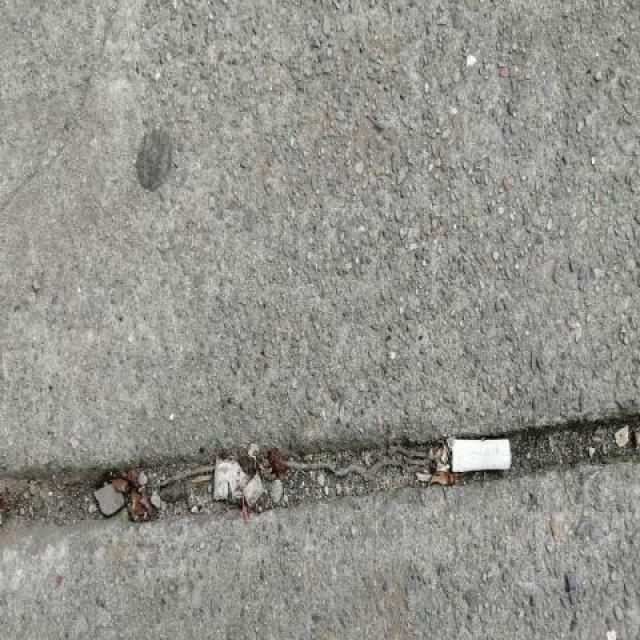non-organic waste: (442, 432, 515, 476)
